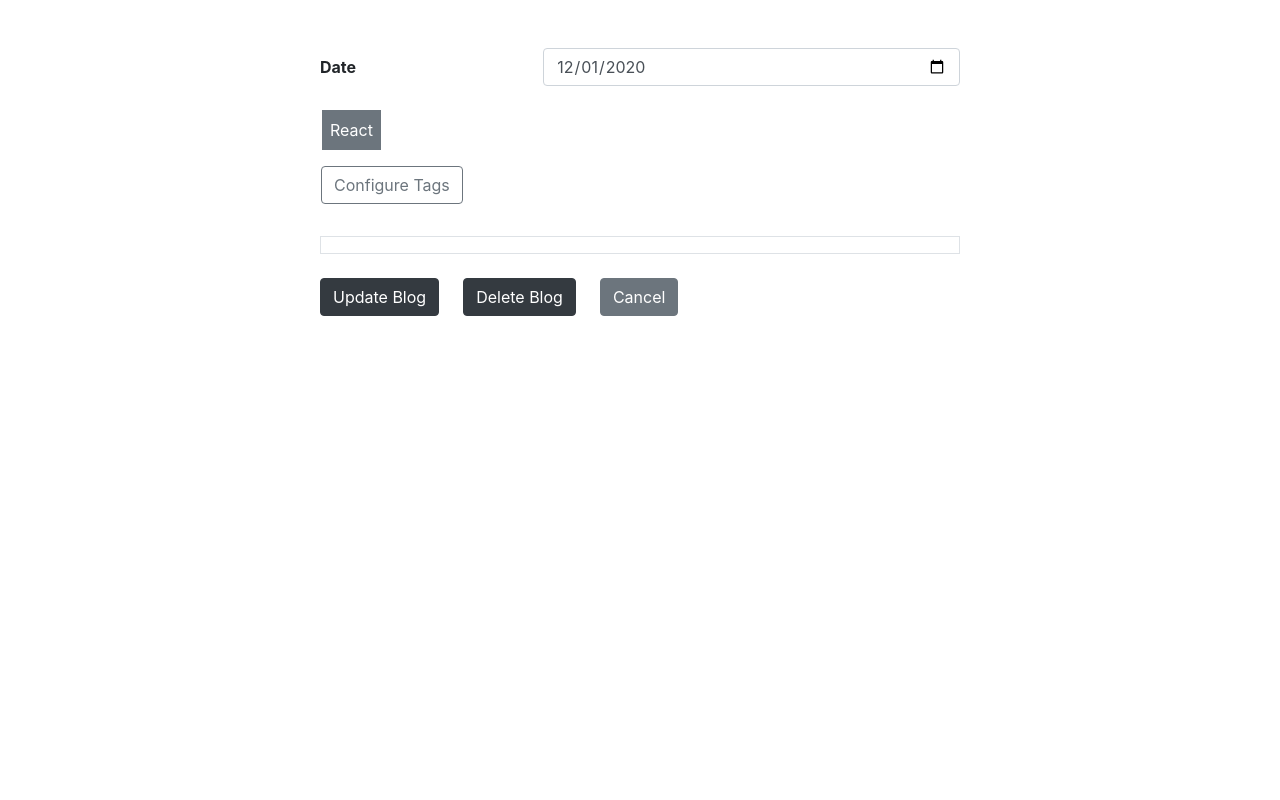
given a blog is deleted › should do nothing if No is clicked
The image size is (1280, 800).
Click the button "Delete Blog": (519,297) left=463, top=278, right=576, bottom=316
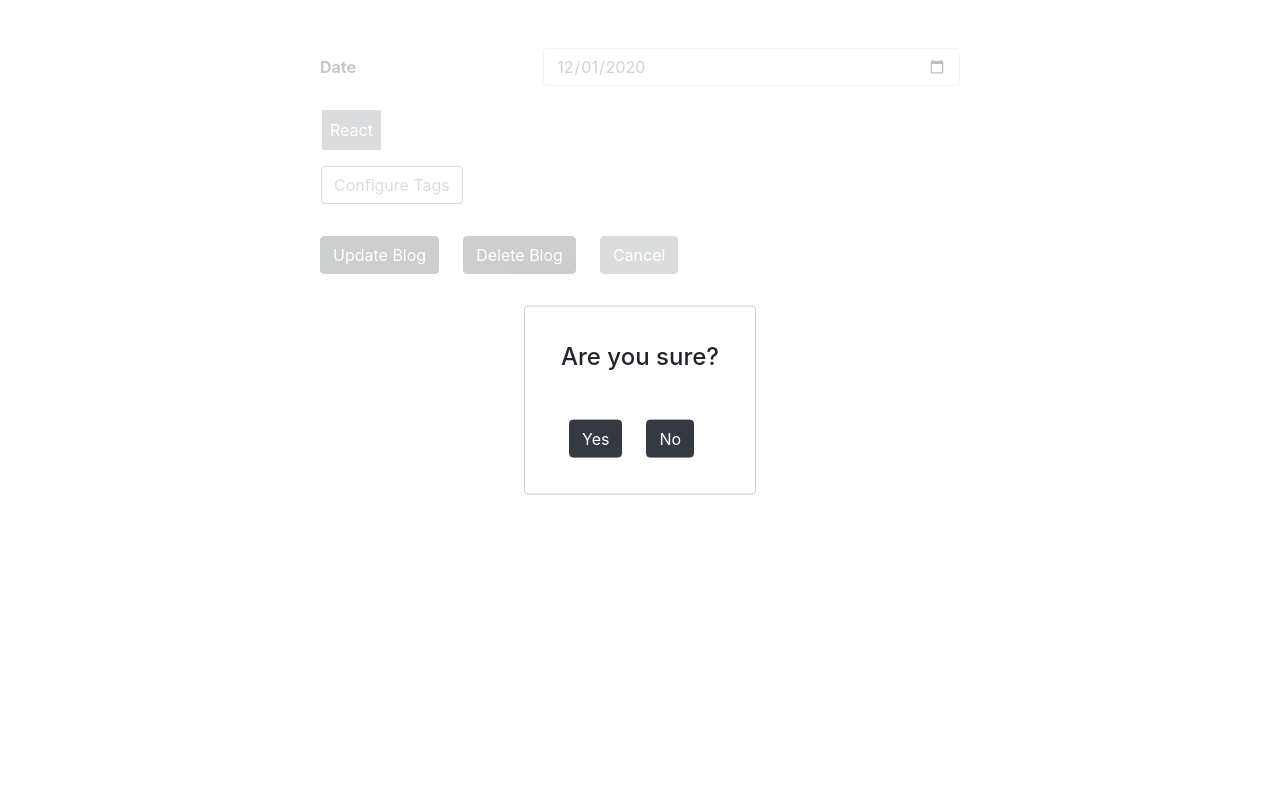
Click the button "No": (670,438) left=646, top=419, right=694, bottom=457
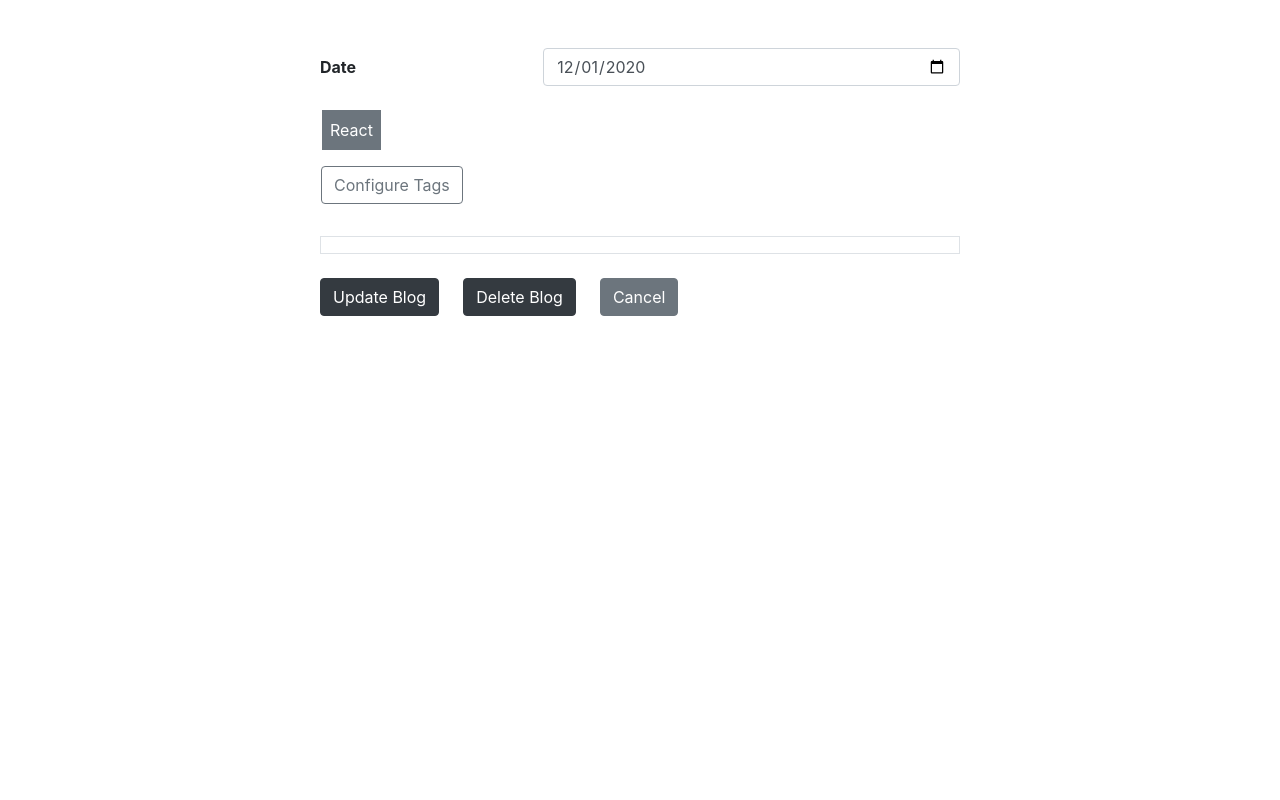
Expected: the heading "Are you sure?" is gone
